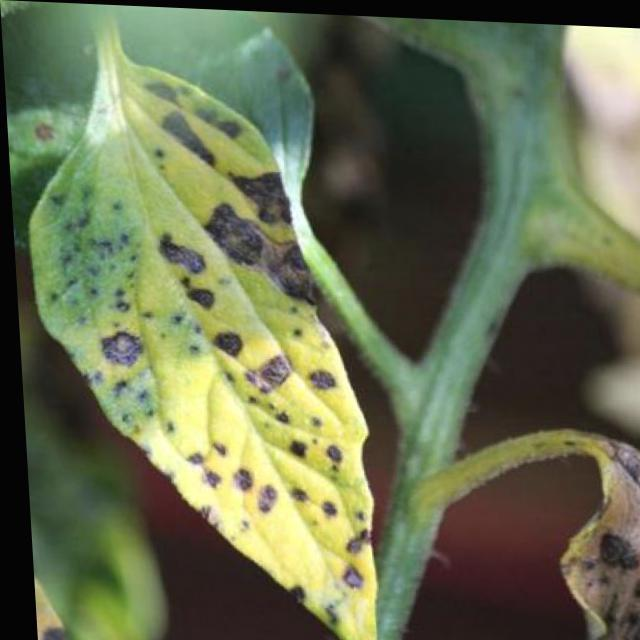Tomato Septoria spot leaf: (13, 59, 403, 639)
